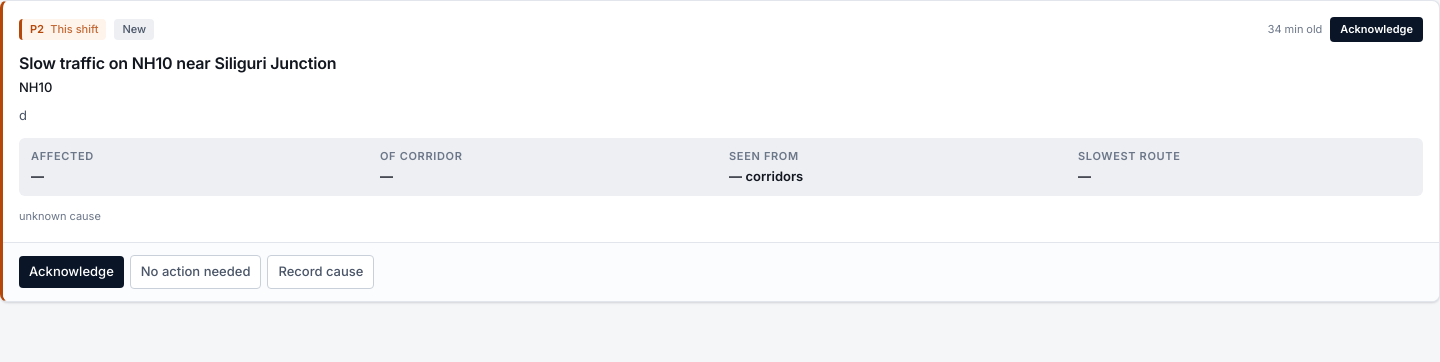
Test: IncidentCard › makes standing down ask for a reason before it will record one
Click the button "No action needed" at [196, 272], box [130,255,262,288]
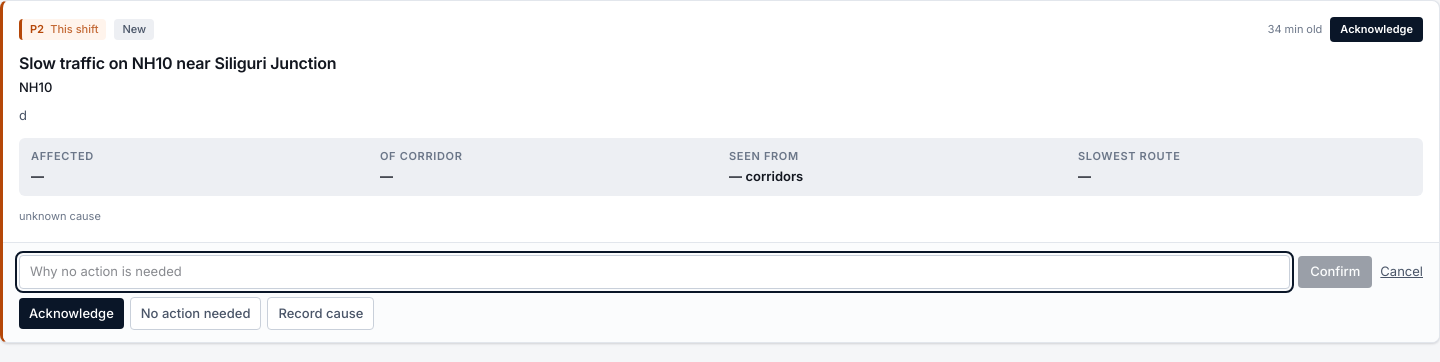
Expected: the button "Confirm" is disabled, [1298,256,1372,288]
